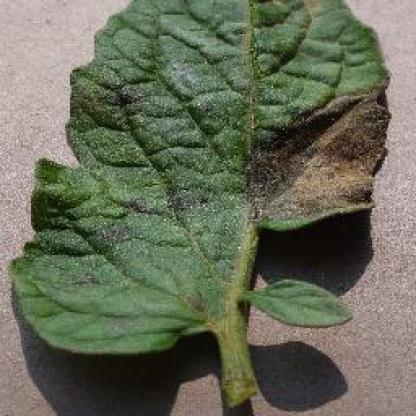bad leaf: (13, 0, 395, 410)
